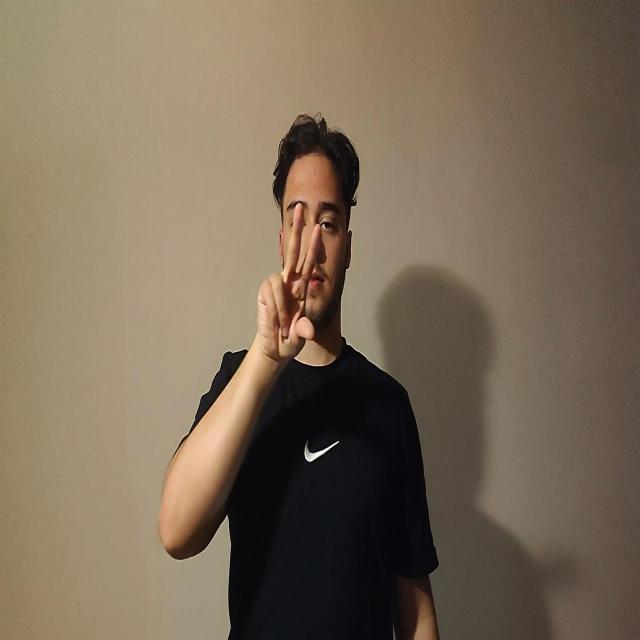no: (256, 202, 325, 365)
